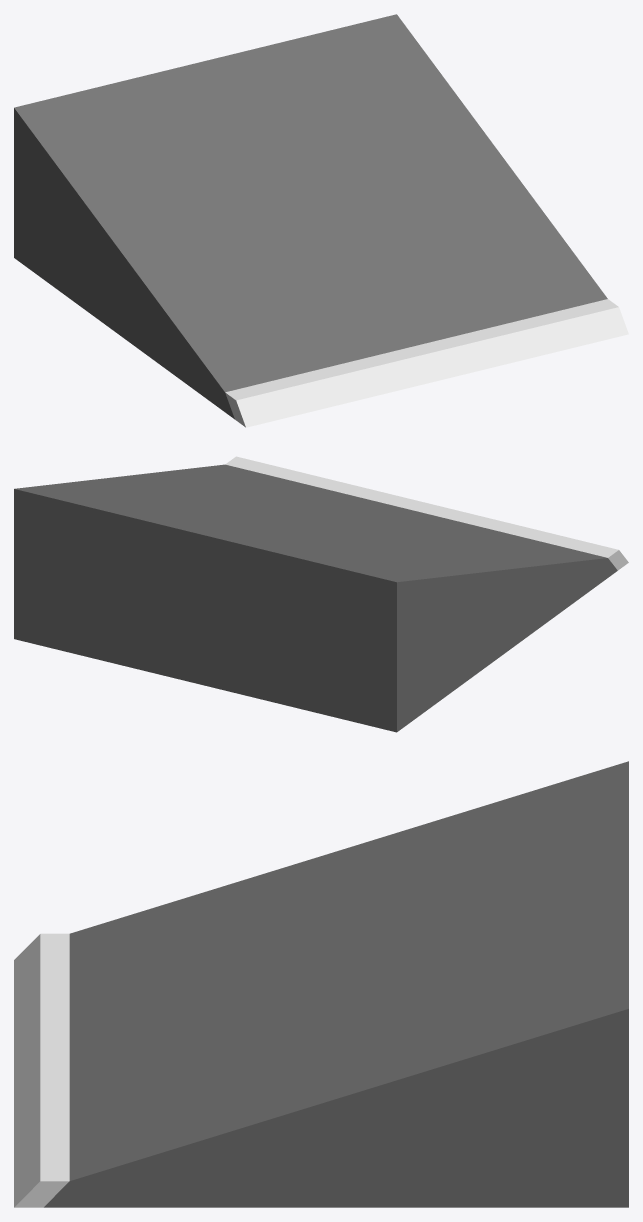
File: RoofShed.glb
The picture shows the model from 3 angles, top to bottom: view 1: azimuth 30°, elevation 25°; view 2: azimuth 150°, elevation 25°; view 3: azimuth 270°, elevation 25°; orthographic projection. The views are drawn at different scales.
Parts seen in each view (by area): view 1: RoofShed; view 2: RoofShed; view 3: RoofShed.
Boxes of the visible parts, bbox=[...] form: RoofShed: bbox=[14, 14, 628, 427]; RoofShed: bbox=[14, 456, 628, 732]; RoofShed: bbox=[14, 761, 628, 1207].
Size of the model in its own units: 2 by 0.75 by 2.1.
1 material, 1 textured.
